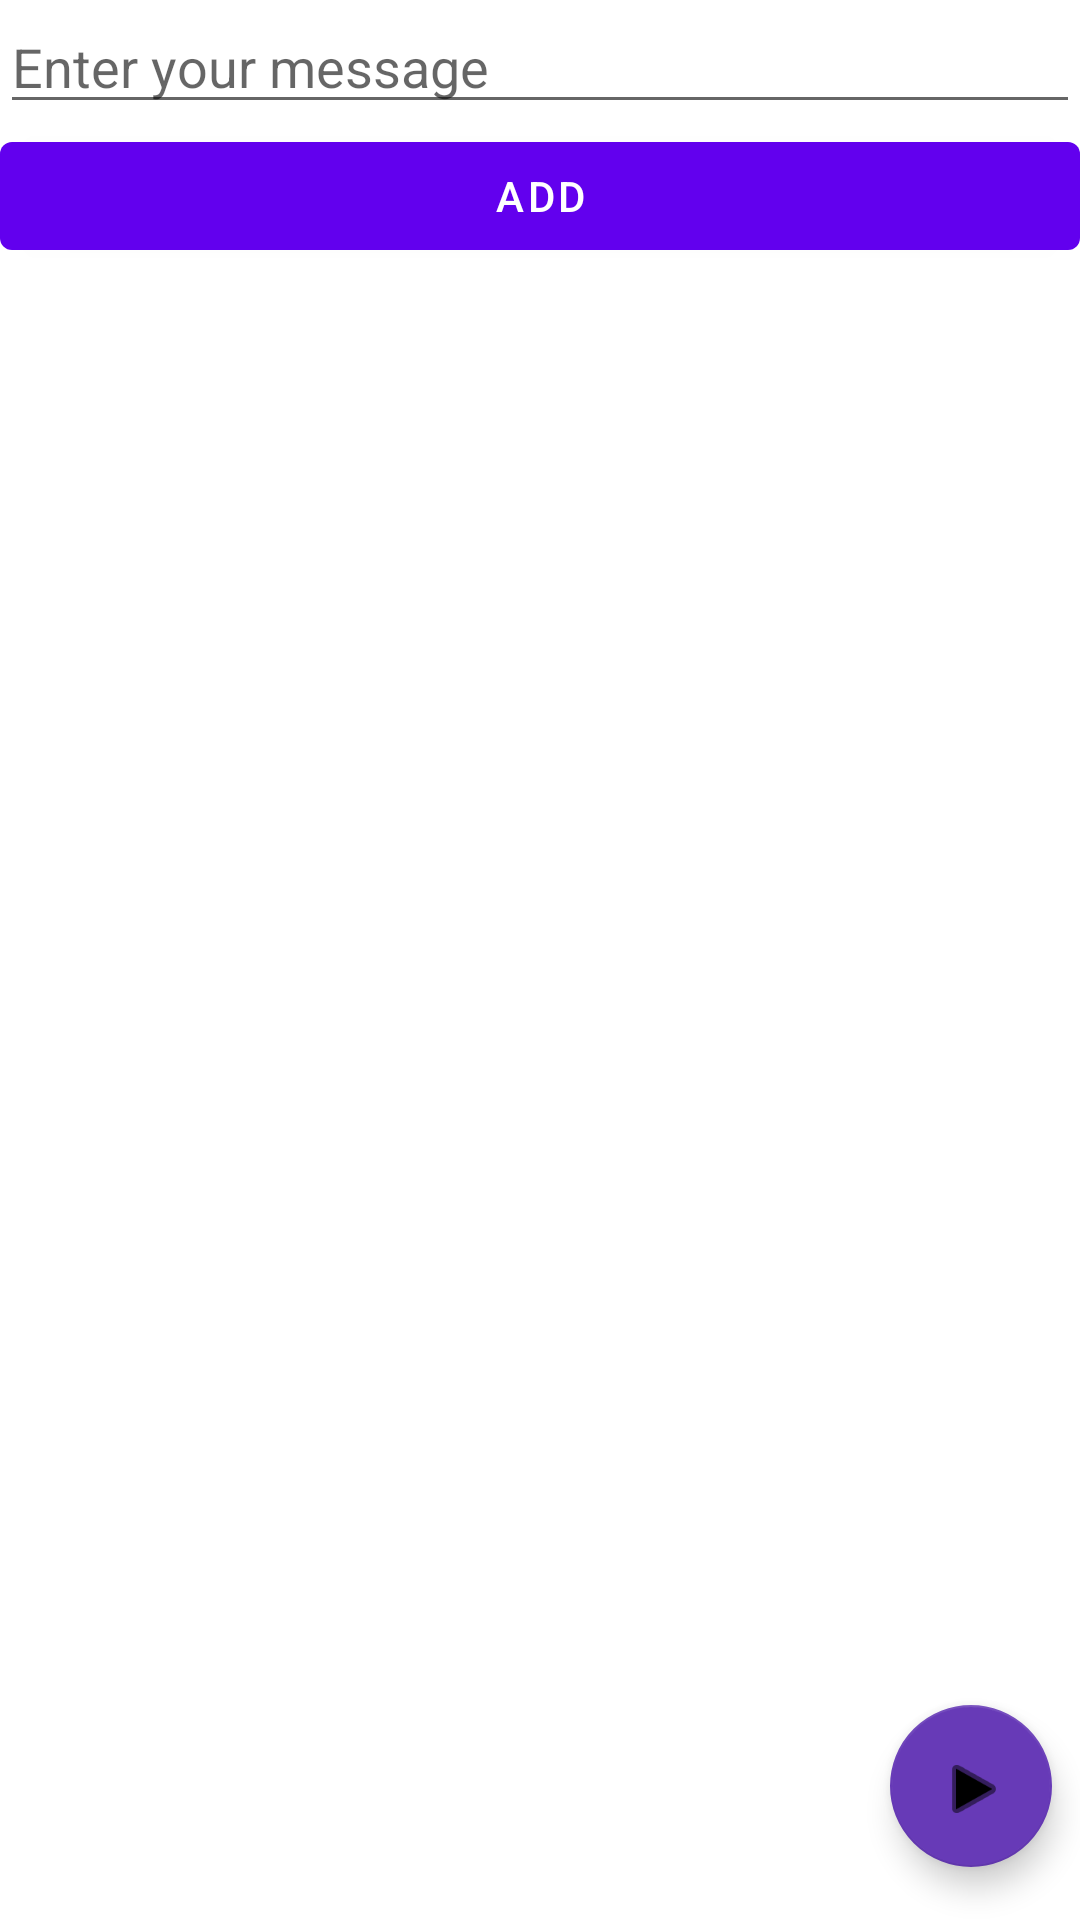

Icon click points for this 1080*1920 phone screenshot, format point (x, y):
play: point (971, 1786)
